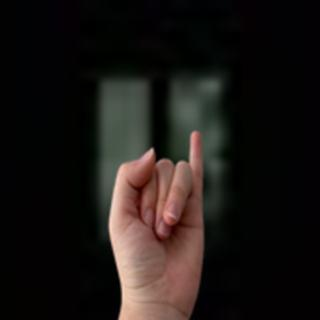Fine: (109, 131, 219, 310)
